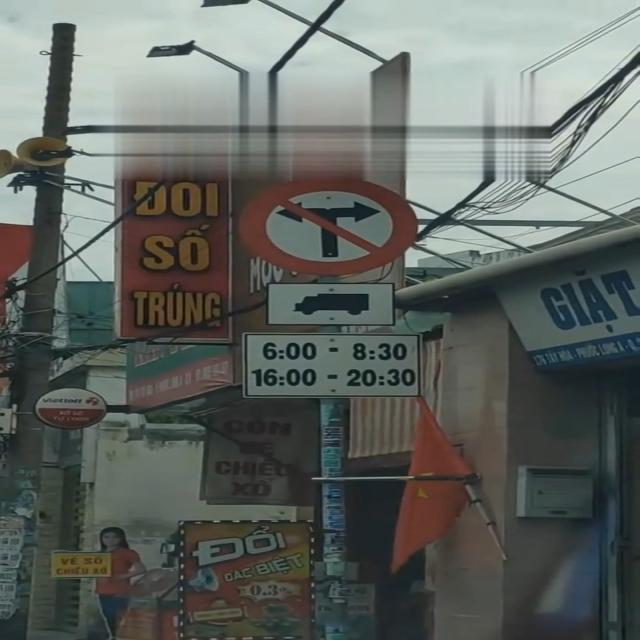137-cam-re-trai-va-re-phai: (232, 168, 419, 274)
